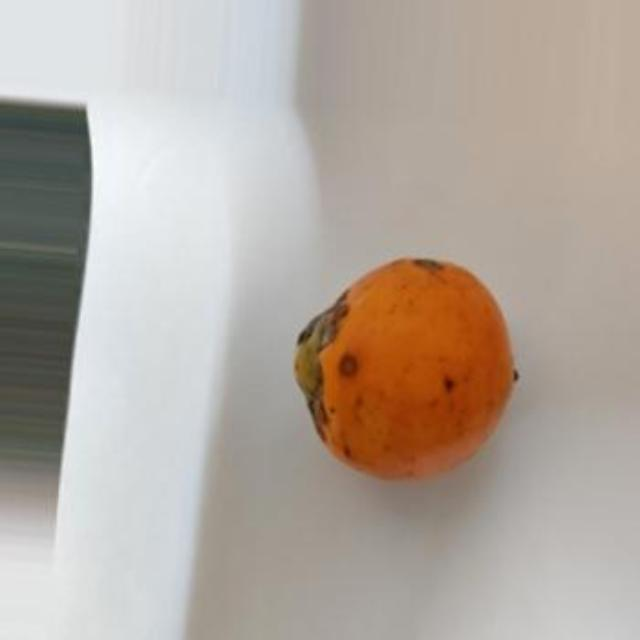good: (293, 260, 517, 485)
